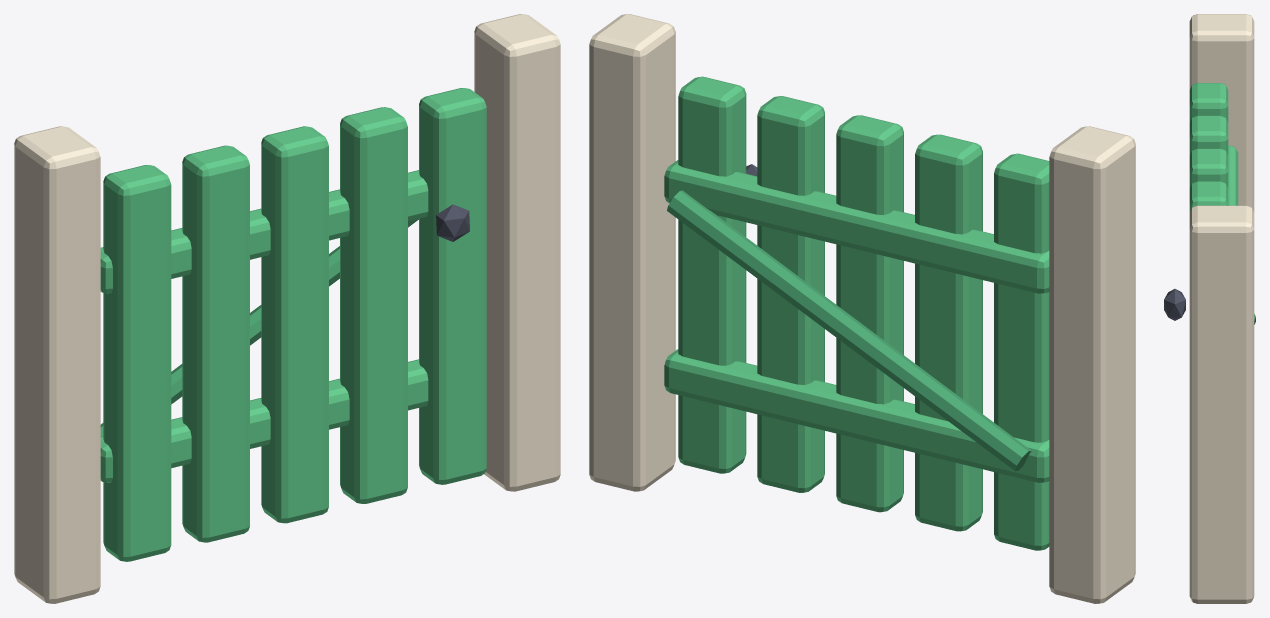
Rendered from garden_gate.glb.
The picture shows the model from 3 angles, left to right: view 1: azimuth 30°, elevation 25°; view 2: azimuth 150°, elevation 25°; view 3: azimuth 270°, elevation 25°; orthographic projection. The views are drawn at different scales.
Parts seen in each view (by area): view 1: garden_gate__Post, garden_gate__Post.001, garden_gate__Gate picket, garden_gate__Gate picket.003, garden_gate__Gate picket.002, garden_gate__Gate picket.001, garden_gate__Gate picket.004, garden_gate__Gate rail, garden_gate__Gate rail.001, garden_gate__Diagonal brace, garden_gate__Latch; view 2: garden_gate__Post, garden_gate__Post.001, garden_gate__Gate picket.004, garden_gate__Gate picket.001, garden_gate__Gate picket.003, garden_gate__Gate picket.002, garden_gate__Gate picket, garden_gate__Gate rail.001, garden_gate__Gate rail, garden_gate__Diagonal brace; view 3: garden_gate__Post.001, garden_gate__Post, garden_gate__Gate picket.001, garden_gate__Gate picket.002, garden_gate__Gate picket, garden_gate__Gate picket.003, garden_gate__Gate rail.001, garden_gate__Latch.
Part boxes in pixels (x1,y1,x2,y2): garden_gate__Post: [14, 126, 100, 603]; garden_gate__Post.001: [474, 14, 560, 491]; garden_gate__Gate picket: [103, 165, 171, 561]; garden_gate__Gate picket.003: [340, 107, 407, 503]; garden_gate__Gate picket.002: [261, 126, 328, 523]; garden_gate__Gate picket.001: [182, 145, 249, 542]; garden_gate__Gate picket.004: [419, 88, 486, 484]; garden_gate__Gate rail: [100, 359, 428, 482]; garden_gate__Gate rail.001: [100, 170, 428, 293]; garden_gate__Diagonal brace: [100, 218, 418, 436]; garden_gate__Latch: [436, 204, 469, 241]; garden_gate__Post: [1049, 126, 1135, 603]; garden_gate__Post.001: [589, 14, 675, 491]; garden_gate__Gate picket.004: [678, 76, 746, 473]; garden_gate__Gate picket.001: [915, 134, 982, 531]; garden_gate__Gate picket.003: [757, 96, 824, 492]; garden_gate__Gate picket.002: [836, 115, 903, 512]; garden_gate__Gate picket: [994, 153, 1049, 550]; garden_gate__Gate rail.001: [664, 160, 1049, 293]; garden_gate__Gate rail: [664, 349, 1049, 482]; garden_gate__Diagonal brace: [667, 190, 1031, 471]; garden_gate__Post.001: [1189, 205, 1254, 603]; garden_gate__Post: [1189, 14, 1254, 212]; garden_gate__Gate picket.001: [1189, 115, 1228, 155]; garden_gate__Gate picket.002: [1189, 148, 1228, 188]; garden_gate__Gate picket: [1189, 83, 1228, 122]; garden_gate__Gate picket.003: [1189, 181, 1228, 212]; garden_gate__Gate rail.001: [1228, 145, 1238, 205]; garden_gate__Latch: [1164, 289, 1185, 320].
Size of the model in its own units: 0.314 by 0.26 by 0.0568.
